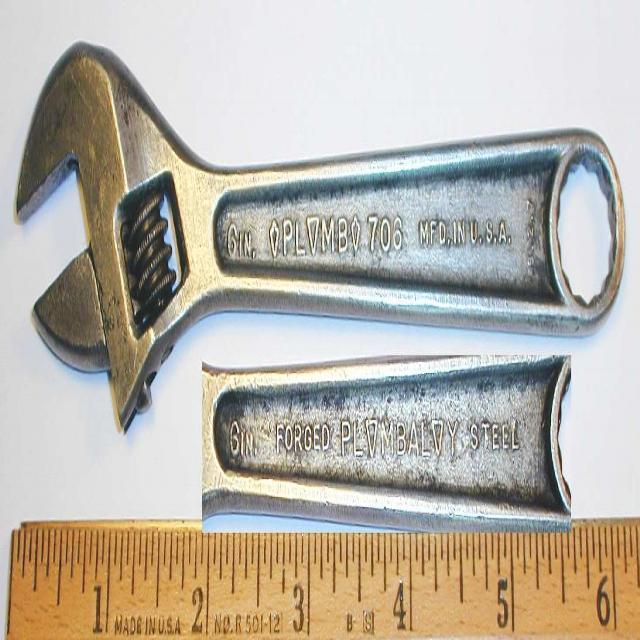wrench: (12, 28, 628, 433)
